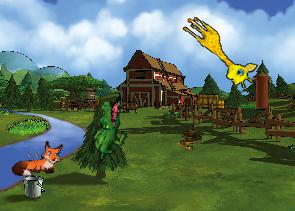crocodile: (85, 97, 132, 163)
fox: (11, 140, 64, 177)
giraffe: (173, 12, 262, 92)
